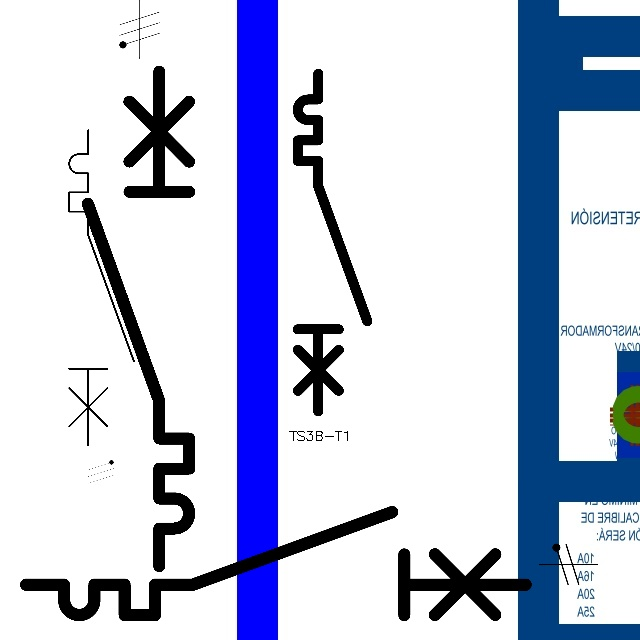interruptor_termomagnetico: (13, 499, 538, 628), (75, 58, 202, 578), (289, 65, 375, 419), (61, 122, 142, 453)
